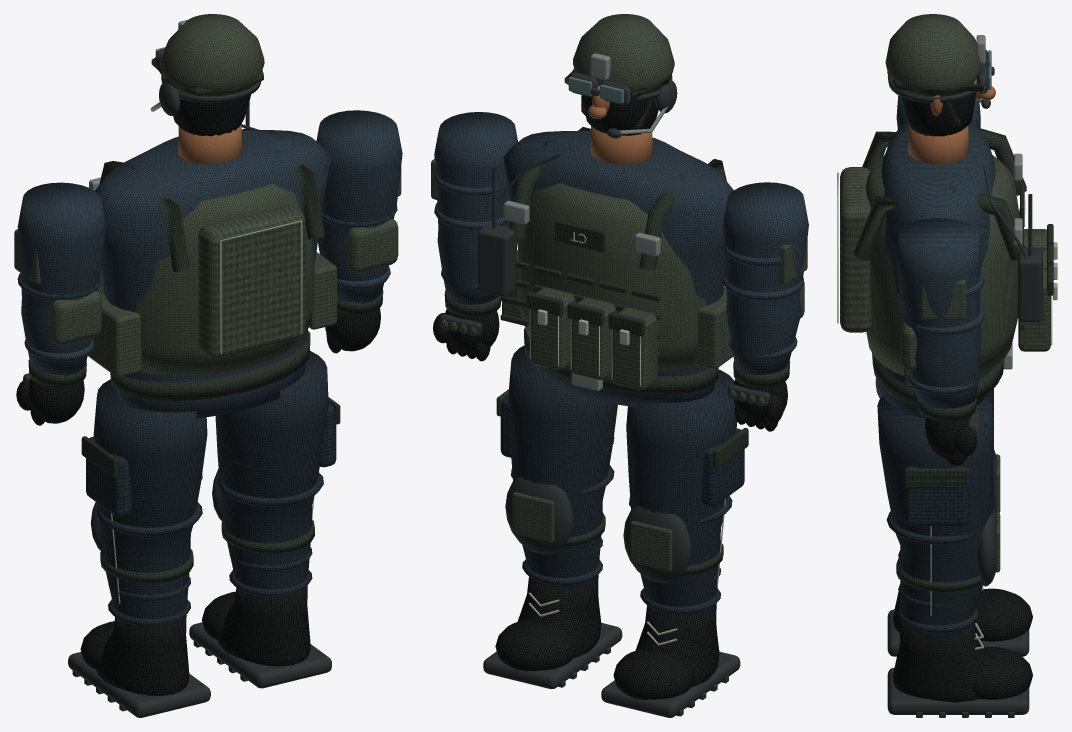
The model's file is operator-ct.glb.
3 renders of one model, left to right at view 1: azimuth 30°, elevation 25°; view 2: azimuth 150°, elevation 25°; view 3: azimuth 270°, elevation 25°, orthographic. The views are drawn at different scales.
Visible parts, largest first — view 1: torso_ct_olive_carrier, torso_ct_navy_ripstop, legL_ct_navy_trousers, legR_ct_navy_trousers, armL_ct_navy_ripstop, armR_ct_navy_ripstop, torso_ct_molle, legR_black_leather_ct, legL_black_leather_ct, head_ct_olive_carrier, legR_rubber_ct, legL_rubber_ct (+10 smaller); view 2: torso_ct_olive_carrier, legL_ct_navy_trousers, torso_ct_navy_ripstop, legR_ct_navy_trousers, armL_ct_navy_ripstop, armR_ct_navy_ripstop, torso_ct_molle, legR_black_leather_ct, legL_black_leather_ct, head_ct_olive_carrier, legR_rubber_ct, legL_rubber_ct (+17 smaller); view 3: legR_ct_navy_trousers, torso_ct_olive_carrier, armR_ct_navy_ripstop, torso_ct_navy_ripstop, legR_black_leather_ct, head_ct_olive_carrier, torso_ct_molle, legR_rubber_ct, legL_black_leather_ct, torso_rubber_ct, legR_ct_molle, head_ct_balaclava (+11 smaller).
Boxes of the visible parts, x1,y1,x2,y2 form: torso_ct_olive_carrier: (88, 183, 336, 377); torso_ct_navy_ripstop: (95, 130, 331, 418); legL_ct_navy_trousers: (86, 379, 207, 627); legR_ct_navy_trousers: (215, 351, 336, 598); armL_ct_navy_ripstop: (17, 182, 106, 375); armR_ct_navy_ripstop: (316, 110, 402, 303); torso_ct_molle: (99, 128, 324, 401); legR_black_leather_ct: (202, 585, 310, 666); legL_black_leather_ct: (80, 615, 189, 695); head_ct_olive_carrier: (160, 14, 264, 96); legR_rubber_ct: (189, 468, 331, 688); legL_rubber_ct: (68, 502, 210, 717); torso_ct_olive_carrier: (502, 183, 733, 389); legL_ct_navy_trousers: (626, 369, 744, 616); torso_ct_navy_ripstop: (503, 131, 733, 406); legR_ct_navy_trousers: (500, 345, 617, 587); armL_ct_navy_ripstop: (722, 182, 808, 375); armR_ct_navy_ripstop: (434, 112, 517, 304); torso_ct_molle: (500, 127, 726, 395); legR_black_leather_ct: (495, 574, 601, 671); legL_black_leather_ct: (613, 603, 719, 699); head_ct_olive_carrier: (573, 14, 674, 94); legR_rubber_ct: (483, 476, 622, 688); legL_rubber_ct: (601, 505, 740, 717); legR_ct_navy_trousers: (877, 396, 993, 638); torso_ct_olive_carrier: (840, 155, 1050, 388); armR_ct_navy_ripstop: (896, 218, 984, 408); torso_ct_navy_ripstop: (875, 121, 995, 418); legR_black_leather_ct: (892, 616, 1032, 702); head_ct_olive_carrier: (885, 14, 982, 96); torso_ct_molle: (854, 127, 1053, 406); legR_rubber_ct: (887, 508, 1029, 717); legL_black_leather_ct: (892, 557, 1032, 641); torso_rubber_ct: (983, 166, 1042, 322); legR_ct_molle: (896, 468, 982, 591); head_ct_balaclava: (901, 93, 975, 136).
Size of the model in its own units: 1.11 by 1.87 by 0.5757.
Materials: 12 (7 with a texture image).
